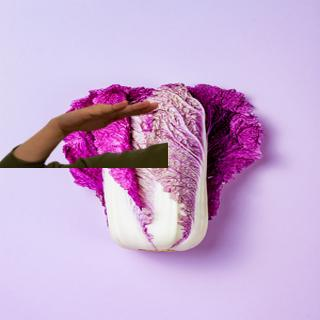WAIT: (58, 98, 164, 135)
